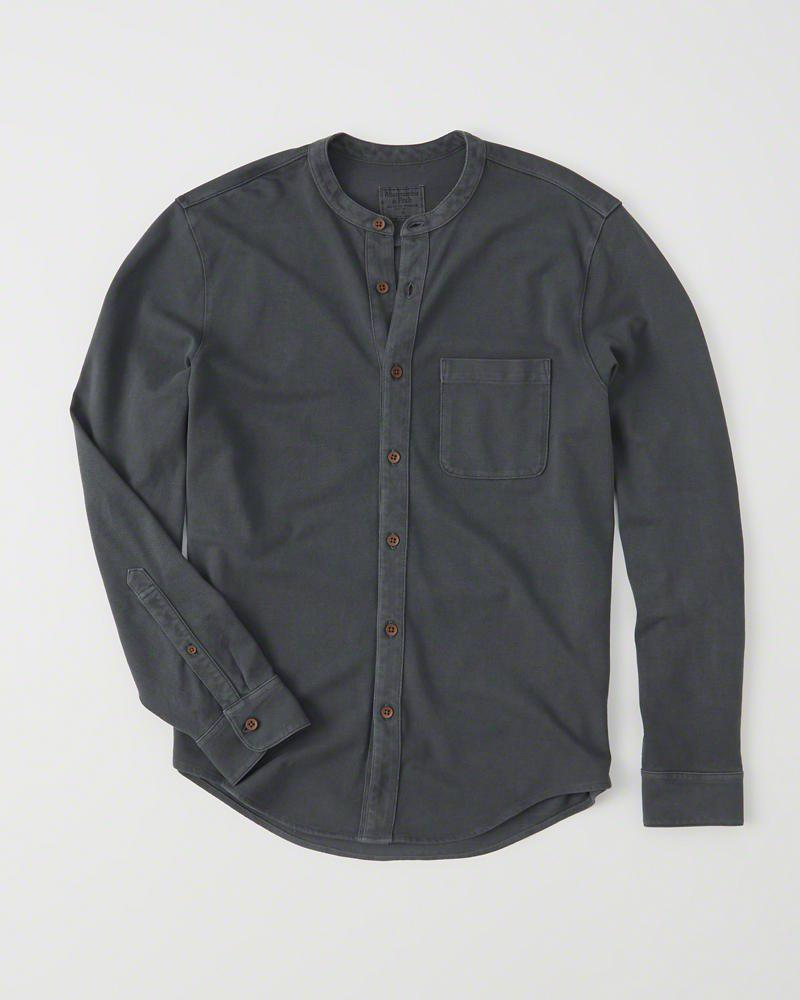teeshirt: (64, 130, 747, 878)
